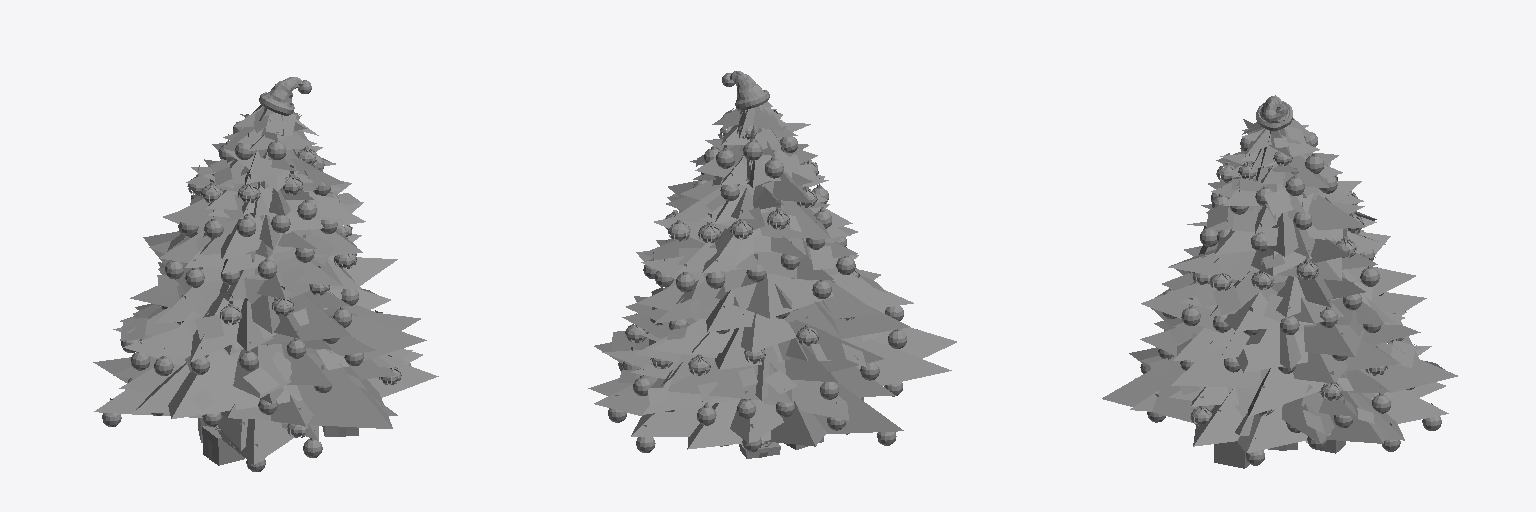
Rendered from pino_2.obj.
3 views of the same model, side by side, from view 1: azimuth 30°, elevation 25°; view 2: azimuth 150°, elevation 25°; view 3: azimuth 270°, elevation 25° (orthographic).
Parts seen in each view (by area): view 1: spruce_cap_spruce_spruce_low_spruce_polySurface002; view 2: spruce_cap_spruce_spruce_low_spruce_polySurface002; view 3: spruce_cap_spruce_spruce_low_spruce_polySurface002.
Boxes of the visible parts, box(x1,y1,x2,y2) form: spruce_cap_spruce_spruce_low_spruce_polySurface002: box(93, 77, 438, 471); spruce_cap_spruce_spruce_low_spruce_polySurface002: box(588, 71, 956, 458); spruce_cap_spruce_spruce_low_spruce_polySurface002: box(1102, 95, 1457, 468).
Size of the model in its own units: 4.69 by 5.04 by 4.71.